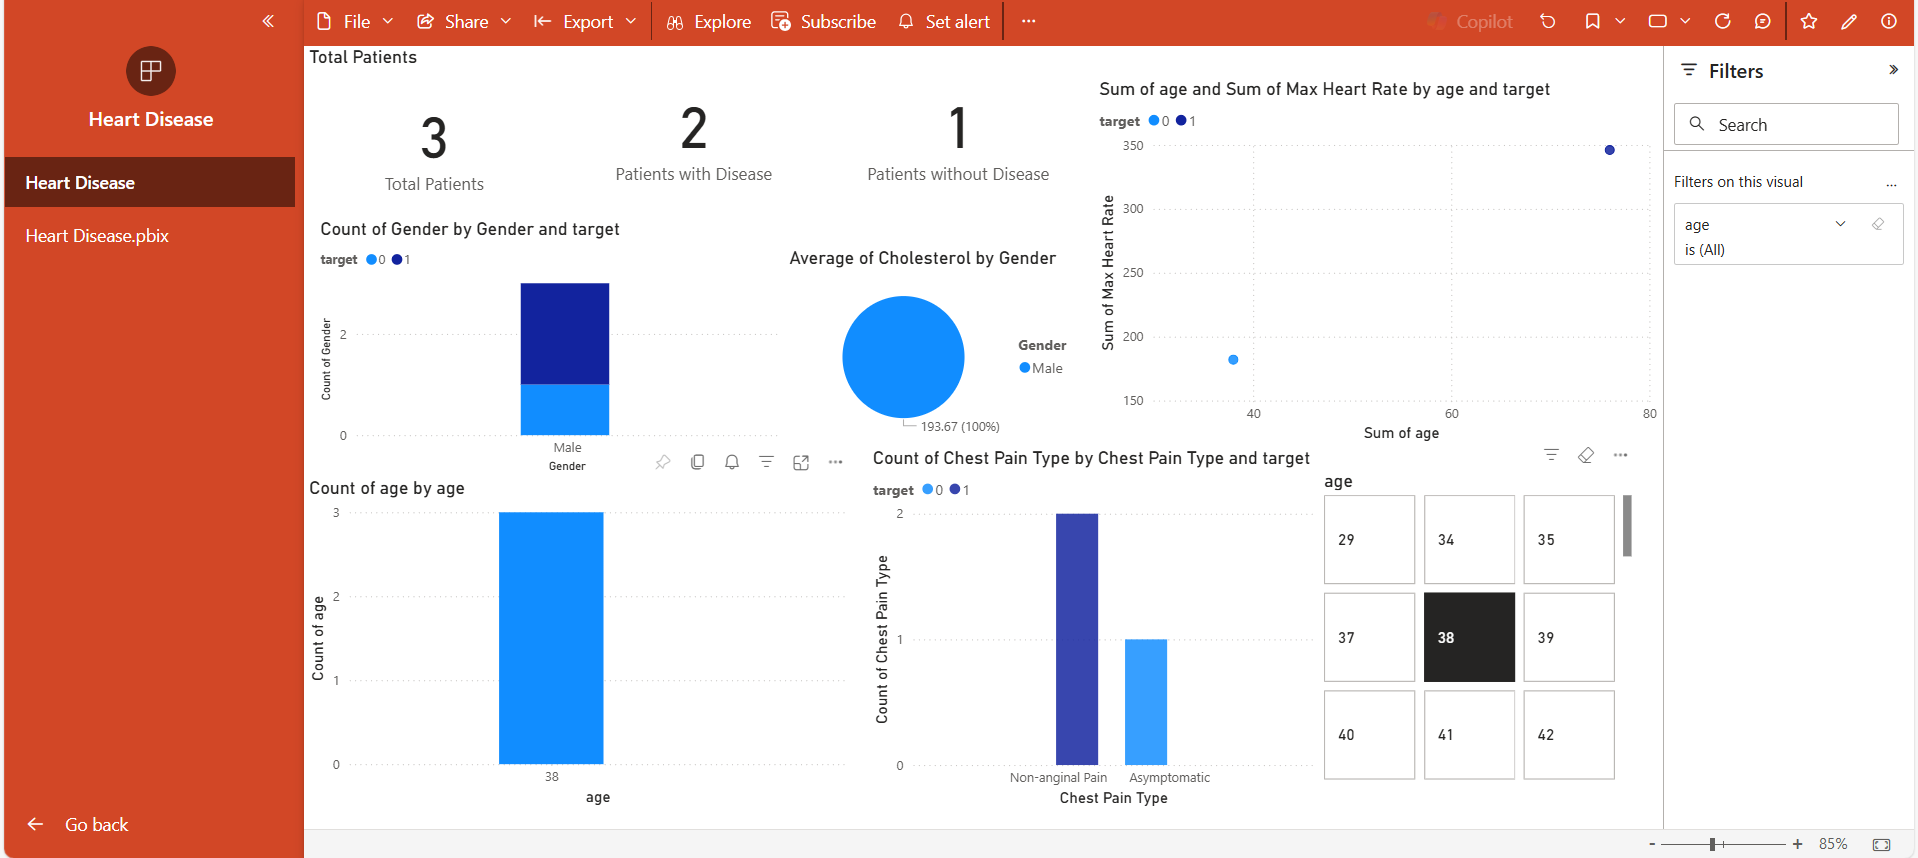

Layout of this report page (visuals, bound fields, positions):
{"tool":"powerbi","page":{"name":"Page 1","canvas":[1280,720],"ordinal":0},"visuals":[{"type":"card","title":"Total Patients","fields":{"Values":["heart.Total Patients"]},"box":[0,0,245.8,162.7],"z":0},{"type":"card","fields":{"Values":["heart.Patients with Disease"]},"box":[246.3,0,242.6,163],"z":1000},{"type":"card","fields":{"Values":["heart.Patients without Disease"]},"box":[488.9,0,255.6,163],"z":2000},{"type":"columnChart","fields":{"Category":["heart.Gender"],"Y":["CountNonNull(heart.Gender)"],"Series":["heart.target"]},"box":[10.2,162.7,440.7,244.1],"z":3000},{"type":"clusteredColumnChart","fields":{"Category":["heart.Chest Pain Type"],"Y":["CountNonNull(heart.Chest Pain Type)"],"Series":["heart.target"]},"box":[531,377.4,425.4,343.1],"z":4000},{"type":"columnChart","fields":{"Category":["heart.age"],"Y":["CountNonNull(heart.age)"]},"box":[0,406.2,516,314.2],"z":5000},{"type":"scatterChart","fields":{"X":["Sum(heart.age)"],"Y":["Sum(heart.Max Heart Rate)"],"Series":["heart.target"],"Category":["heart.age"]},"box":[744.1,30.9,535.3,347.1],"z":6000},{"type":"pieChart","fields":{"Category":["heart.Gender"],"Y":["Avg(heart.Cholesterol)"]},"box":[452.5,189.8,291.5,188.1],"z":7000},{"type":"advancedSlicerVisual","fields":{"Values":["heart.age"]},"box":[956.4,399.3,299.1,299.1],"z":7001}]}

Visuals, with their boxes on the page's 1280x720 design canvas (x1, y1, x2, y2). These are canvas units, not pixel positions in the 1918x858 screenshot, which may show the page scaled, cropped or inside an application window:
"Total Patients" card: [x1=0, y1=0, x2=246, y2=163]
card - heart.Patients with Disease: [x1=246, y1=0, x2=489, y2=163]
card - heart.Patients without Disease: [x1=489, y1=0, x2=744, y2=163]
columnChart - heart.Gender x CountNonNull(heart.Gender): [x1=10, y1=163, x2=451, y2=407]
clusteredColumnChart - heart.Chest Pain Type x CountNonNull(heart.Chest Pain Type): [x1=531, y1=377, x2=956, y2=720]
columnChart - heart.age x CountNonNull(heart.age): [x1=0, y1=406, x2=516, y2=720]
scatterChart - Sum(heart.age) x Sum(heart.Max Heart Rate): [x1=744, y1=31, x2=1279, y2=378]
pieChart - heart.Gender x Avg(heart.Cholesterol): [x1=452, y1=190, x2=744, y2=378]
advancedSlicerVisual - heart.age: [x1=956, y1=399, x2=1256, y2=698]
